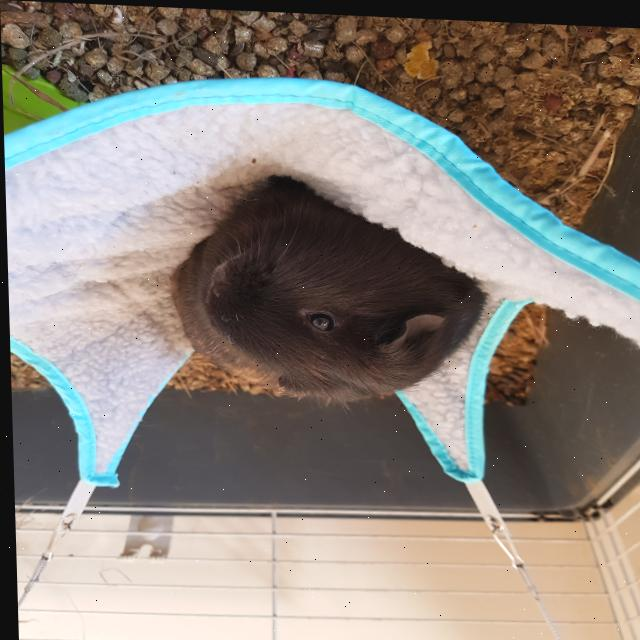guinea pig: (159, 167, 494, 410)
